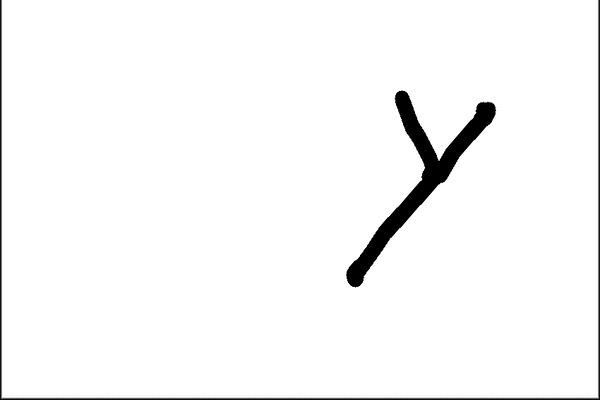Y: (325, 80, 507, 292)
